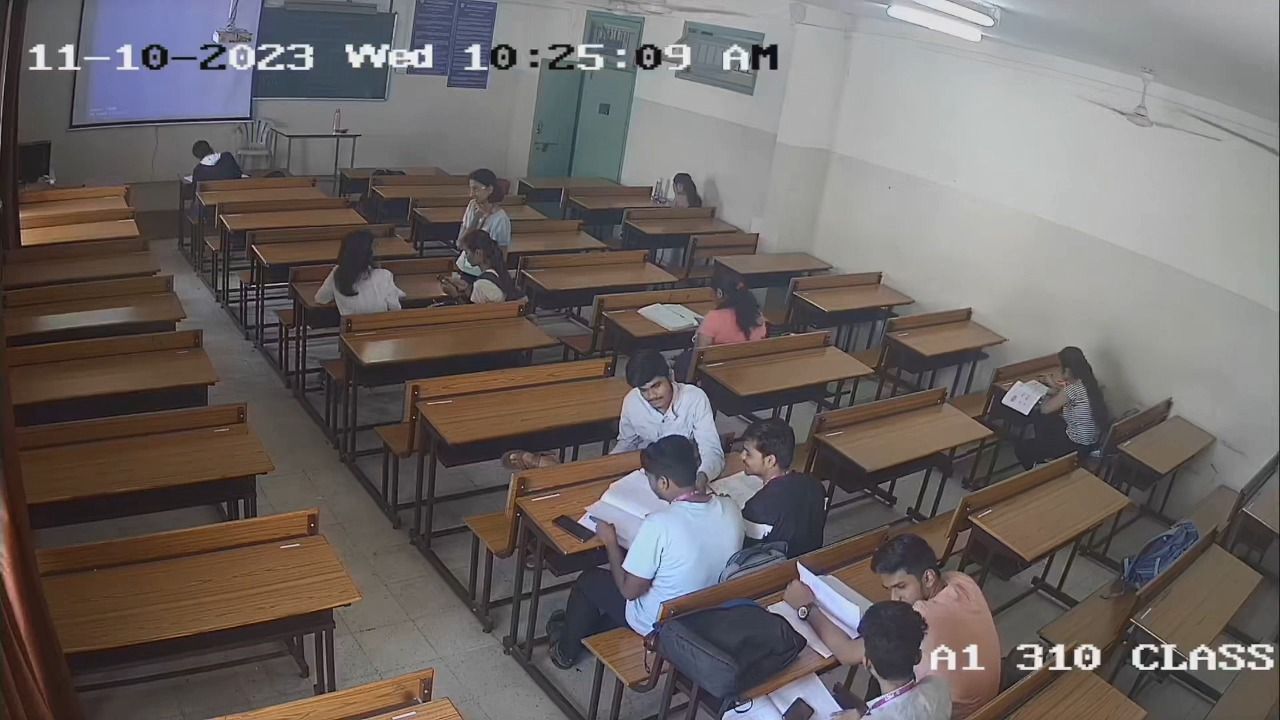cell-phones: (552, 508, 594, 544), (777, 696, 817, 720), (435, 271, 459, 292)
person: (599, 435, 734, 606), (831, 600, 950, 720), (454, 229, 517, 303)
